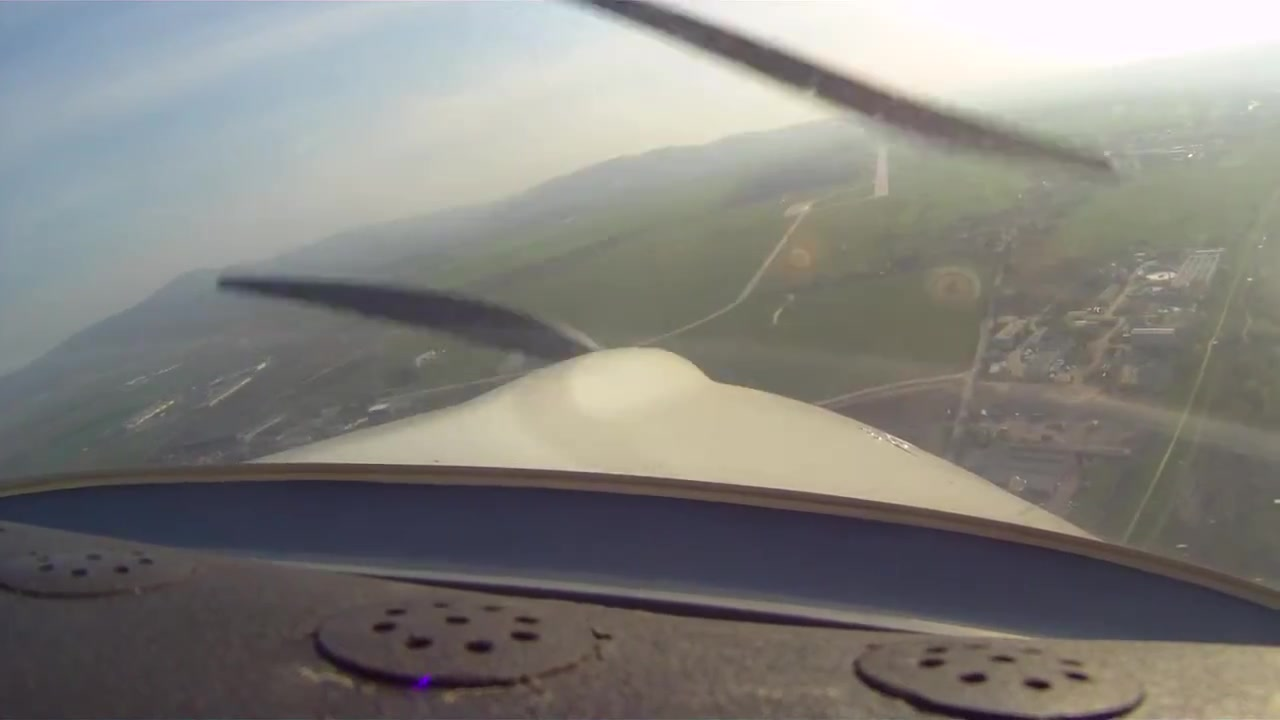runway: (870, 145, 891, 199)
